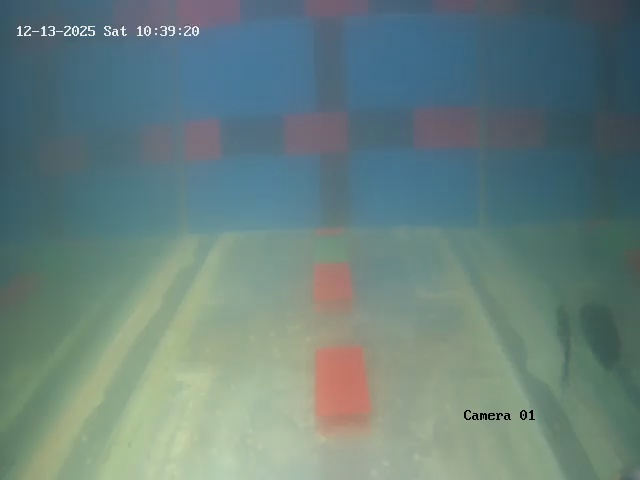fish: (547, 297, 581, 387)
